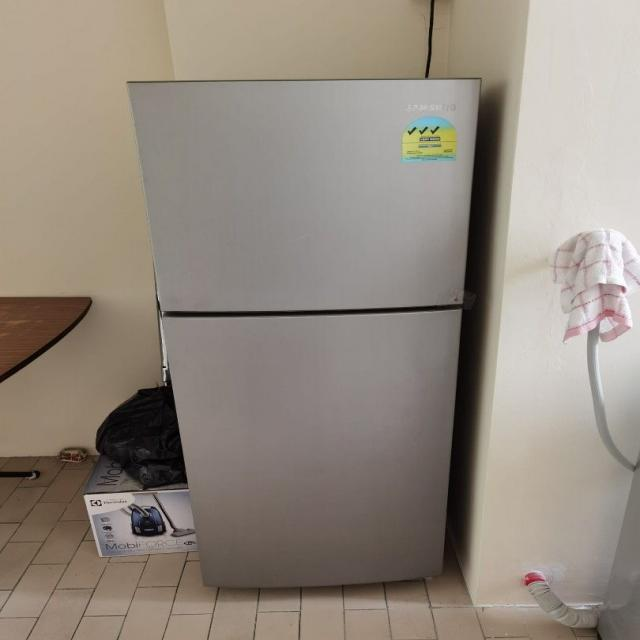refrigerator: (125, 78, 483, 590)
